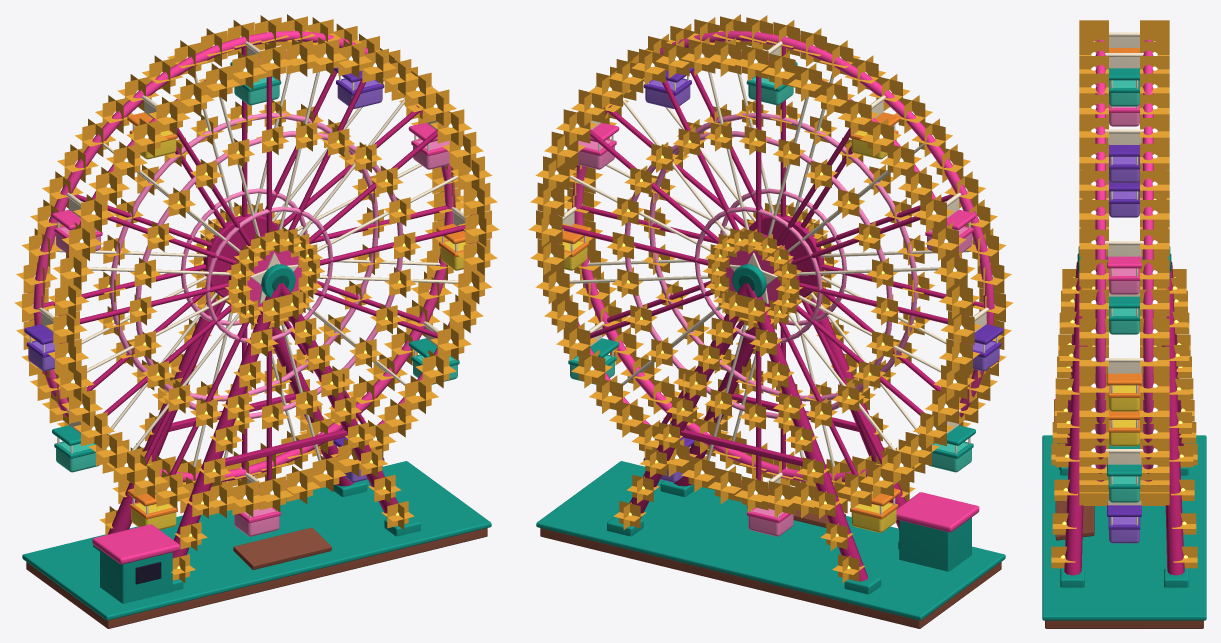
File: ferris_wheel.glb
3 renders of one model, left to right at view 1: azimuth 30°, elevation 25°; view 2: azimuth 150°, elevation 25°; view 3: azimuth 270°, elevation 25°, orthographic. The views are drawn at different scales.
Visible parts, largest first — view 1: Wheel, Stand, Gondola_07, Gondola_08, Gondola_06, Gondola_01, Gondola_02, Gondola_09, Gondola_00, Gondola_05, Gondola_03, Gondola_04 (+1 smaller); view 2: Wheel, Stand, Gondola_07, Gondola_08, Gondola_06, Gondola_01, Gondola_02, Gondola_09, Gondola_00, Gondola_05, Gondola_03, Gondola_04 (+1 smaller); view 3: Stand, Wheel, Gondola_11, Gondola_00, Gondola_01, Gondola_02, Gondola_03, Gondola_10, Gondola_07, Gondola_08, Gondola_06, Gondola_05 (+1 smaller).
Boxes of the visible parts, bbox=[...] form: Wheel: bbox=[14, 14, 499, 518]; Stand: bbox=[22, 264, 491, 628]; Gondola_07: bbox=[52, 421, 99, 472]; Gondola_08: bbox=[127, 488, 177, 529]; Gondola_06: bbox=[24, 313, 58, 371]; Gondola_01: bbox=[408, 120, 449, 169]; Gondola_02: bbox=[333, 67, 384, 108]; Gondola_09: bbox=[234, 478, 281, 536]; Gondola_00: bbox=[436, 212, 468, 270]; Gondola_05: bbox=[52, 198, 102, 252]; Gondola_03: bbox=[230, 47, 281, 105]; Gondola_04: bbox=[127, 101, 177, 159]; Wheel: bbox=[528, 14, 1013, 518]; Stand: bbox=[536, 264, 1005, 628]; Gondola_07: bbox=[928, 421, 975, 472]; Gondola_08: bbox=[850, 488, 900, 532]; Gondola_06: bbox=[969, 313, 1003, 371]; Gondola_01: bbox=[578, 120, 619, 169]; Gondola_02: bbox=[643, 67, 694, 108]; Gondola_09: bbox=[746, 478, 793, 536]; Gondola_00: bbox=[559, 212, 591, 270]; Gondola_05: bbox=[925, 198, 975, 252]; Gondola_03: bbox=[746, 47, 797, 105]; Gondola_04: bbox=[850, 101, 900, 159]; Stand: bbox=[1042, 246, 1206, 628]; Wheel: bbox=[1079, 20, 1169, 505]; Gondola_11: bbox=[1107, 453, 1141, 502]; Gondola_00: bbox=[1107, 362, 1141, 411]; Gondola_01: bbox=[1107, 245, 1141, 294]; Gondola_02: bbox=[1107, 133, 1141, 182]; Gondola_03: bbox=[1109, 57, 1139, 106]; Gondola_10: bbox=[1107, 500, 1141, 543]; Gondola_07: bbox=[1108, 289, 1140, 334]; Gondola_08: bbox=[1109, 409, 1139, 446]; Gondola_06: bbox=[1109, 180, 1139, 217]; Gondola_05: bbox=[1109, 103, 1139, 126].
Size of the model in its own units: 28.3 by 31.14 by 9.3.
